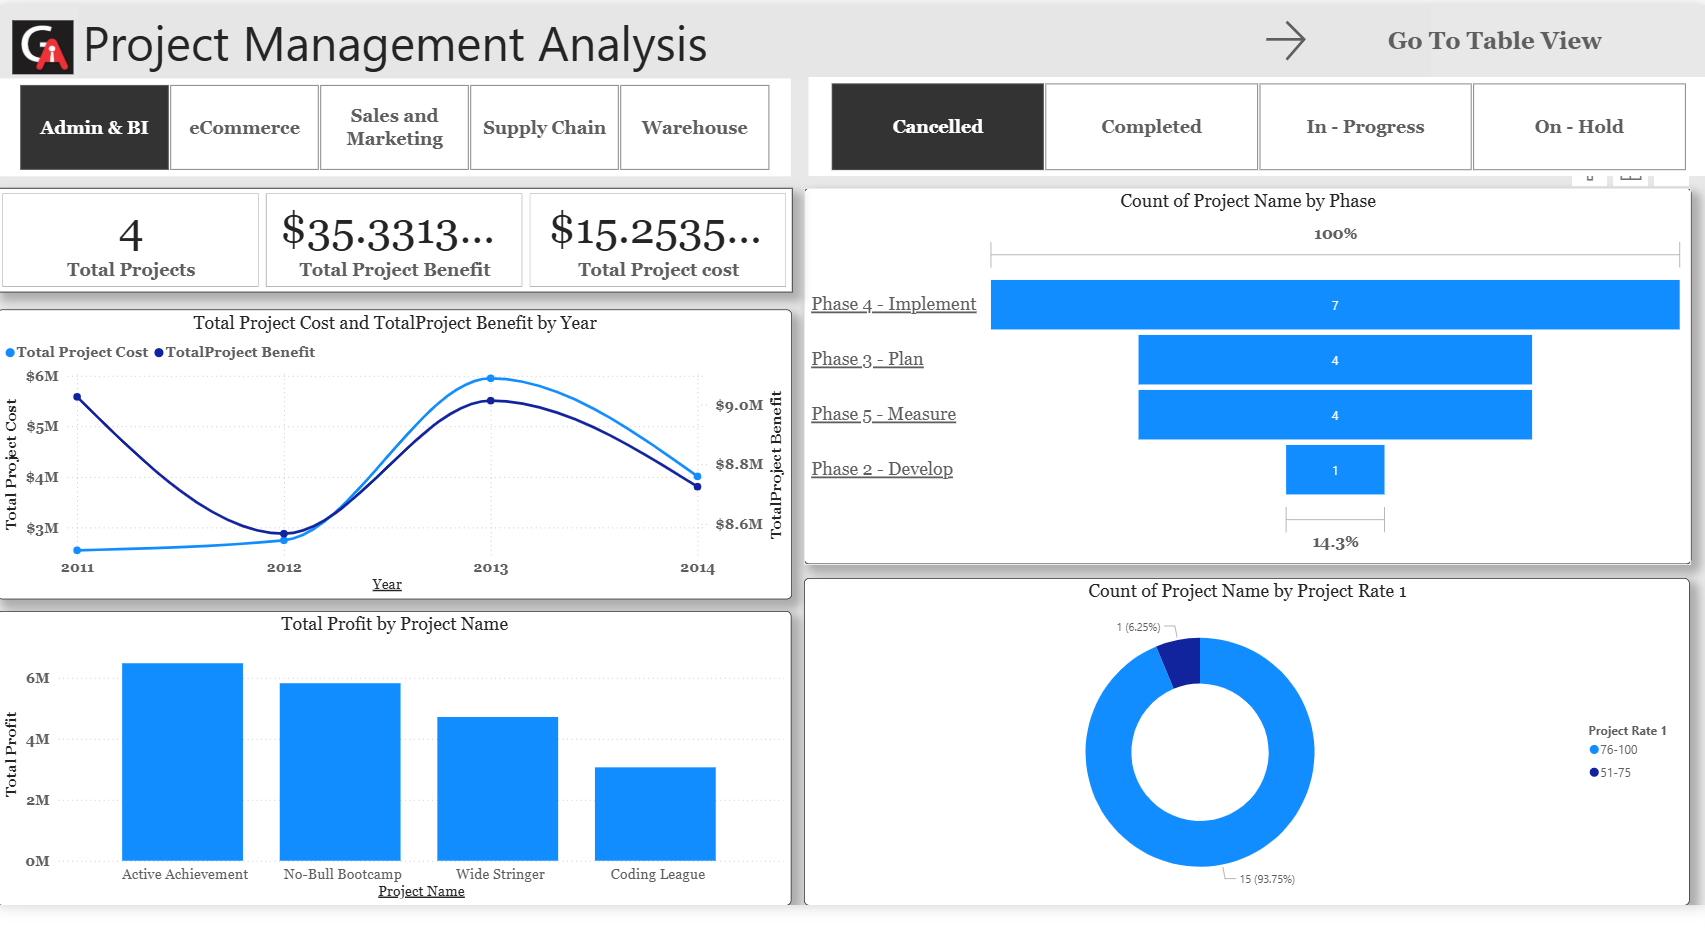

The page's visual inventory and layout, read from the dashboard file:
{"tool":"powerbi","page":{"name":"Dashboard","canvas":[1900,1000],"ordinal":0},"visuals":[{"type":"textbox","box":[90,0,1503.3,81.7],"z":0},{"type":"image","box":[11.7,11.7,78.3,70],"z":1000},{"type":"actionButton","box":[1404,12,384,56],"z":2000},{"type":"lineChart","fields":{"Category":["Project.Year"],"Y":["Sum(Project.Project Cost)"],"Y2":["Sum(Project.Project Benefit)"]},"box":[0,338.3,883.3,321.7],"z":3000},{"type":"slicer","fields":{"Values":["Department.Department"]},"box":[0,82,882,108],"z":4000},{"type":"funnel","fields":{"Category":["Project.Phase"],"Y":["Count(Project.Project Name)"]},"box":[896,204,986,418],"z":5000},{"type":"lineStackedColumnComboChart","fields":{"Y":["Project.Measure"],"Category":["Project.Project Name"]},"box":[0,672.5,882.5,327.5],"z":6000},{"type":"slicer","fields":{"Values":["Project.Status"]},"box":[890,68,998,110],"z":7000},{"type":"donutChart","fields":{"Category":["Project.Project Rate 1"],"Y":["Count(Project.Project Name)"]},"box":[896,636,984,364],"z":8000},{"type":"cardVisual","fields":{"Data":["Count(Project.Project Name)","Sum(Project.Project Benefit)","Sum(Project.Project Cost)"]},"box":[0,204,884,116],"z":9000}]}

Visuals, with their boxes on the page's 1900x1000 design canvas (x1, y1, x2, y2). These are canvas units, not pixel positions in the 1705x936 screenshot, which may show the page scaled, cropped or inside an application window:
textbox: <region>90, 0, 1593, 82</region>
image: <region>12, 12, 90, 82</region>
actionButton: <region>1404, 12, 1788, 68</region>
lineChart - Project.Year x Sum(Project.Project Cost): <region>0, 338, 883, 660</region>
slicer - Department.Department: <region>0, 82, 882, 190</region>
funnel - Project.Phase x Count(Project.Project Name): <region>896, 204, 1882, 622</region>
lineStackedColumnComboChart - Project.Measure x Project.Project Name: <region>0, 672, 882, 1000</region>
slicer - Project.Status: <region>890, 68, 1888, 178</region>
donutChart - Project.Project Rate 1 x Count(Project.Project Name): <region>896, 636, 1880, 1000</region>
cardVisual - Count(Project.Project Name) x Sum(Project.Project Benefit): <region>0, 204, 884, 320</region>
